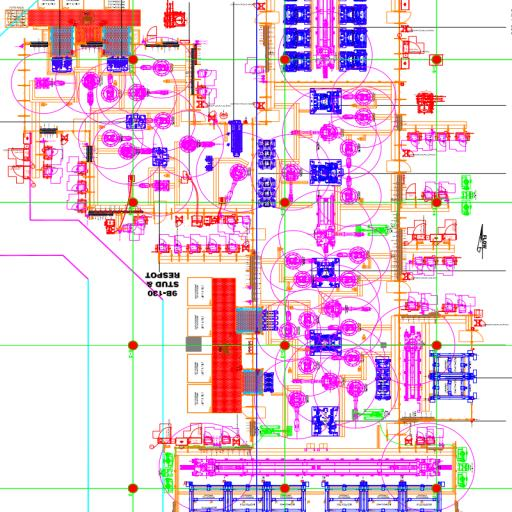robot: (310, 222, 368, 248), (221, 162, 250, 204), (285, 388, 311, 434), (342, 378, 368, 423), (192, 460, 246, 478), (320, 300, 373, 318), (129, 110, 175, 130), (176, 134, 217, 154), (125, 84, 171, 101), (281, 252, 321, 270), (276, 309, 299, 340), (328, 347, 362, 367), (297, 343, 318, 375), (81, 71, 100, 106), (140, 59, 174, 77), (341, 108, 374, 126), (100, 130, 137, 146), (340, 138, 359, 169), (328, 271, 360, 289), (340, 89, 375, 105), (340, 174, 358, 205), (140, 177, 172, 194), (31, 77, 67, 89)
